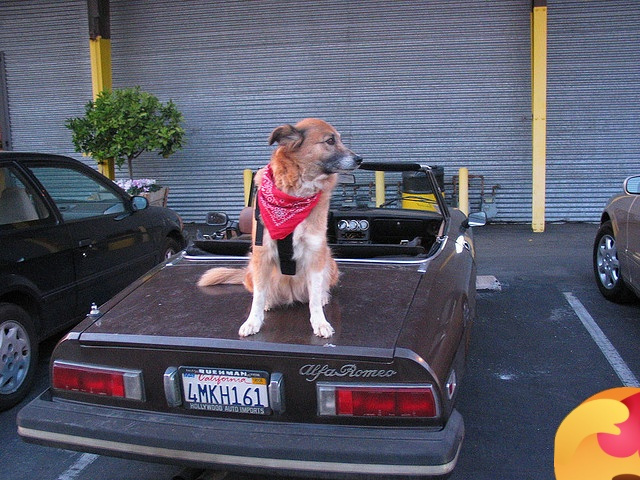care: (554, 387, 640, 480)
